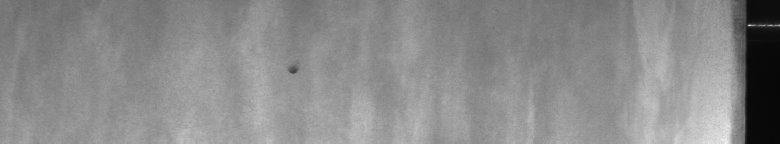fi: (285, 60, 300, 80)
